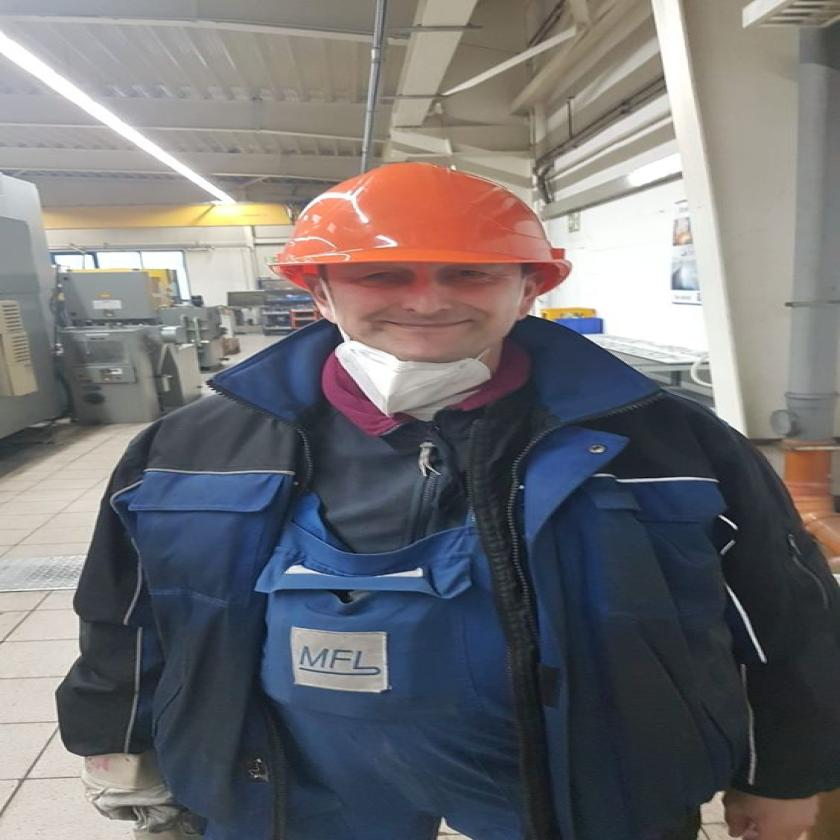Con_casco: (272, 160, 583, 366)
